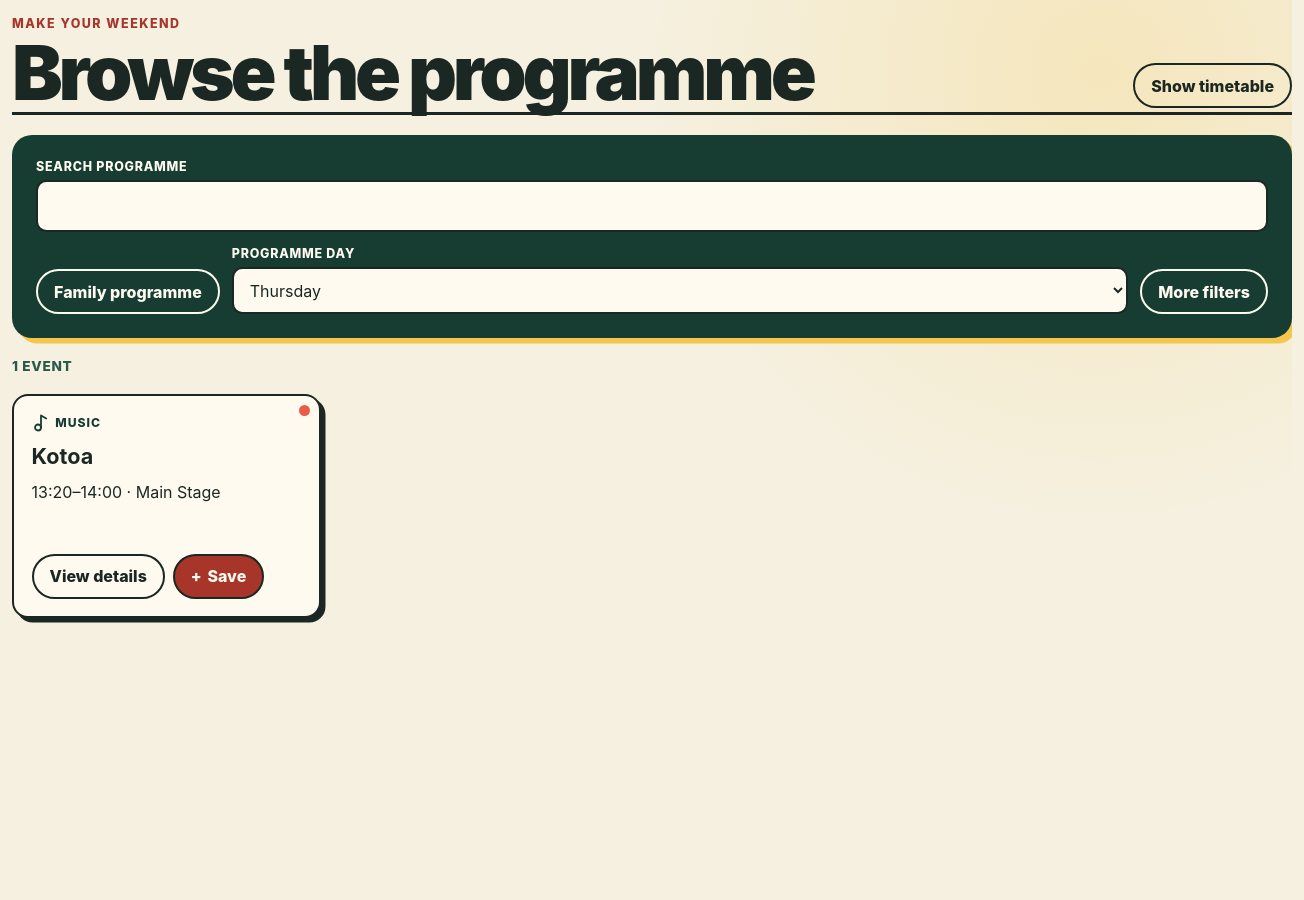
Test: BrowseView › shows the timetable exclusively when desktop layout opens the timetable
Expected: the heading "Kotoa" is shown, [32,442,93,468]
Click the button "Show timetable" at (1213, 86), box [1133,63,1292,108]
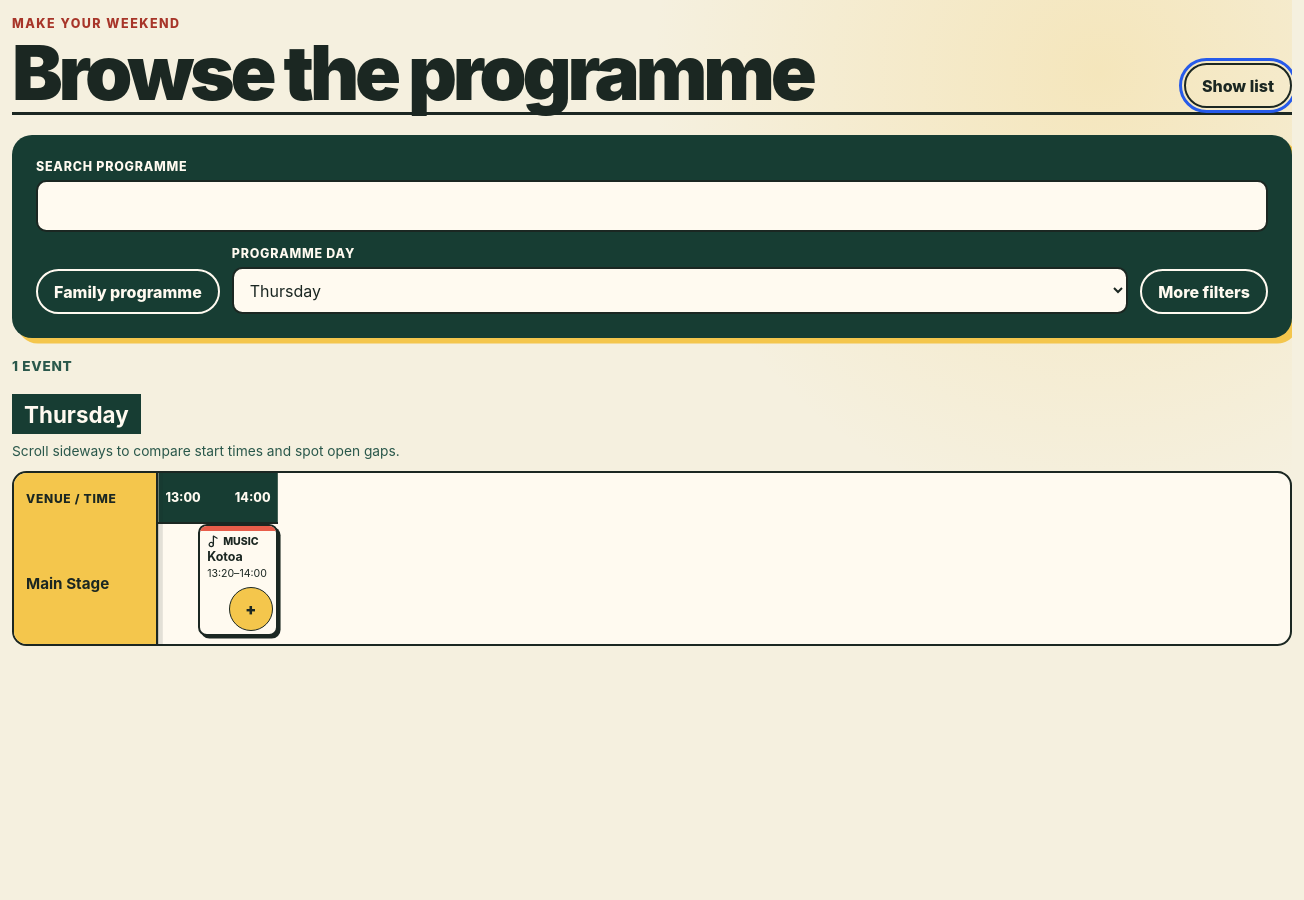
Expected: the heading "Main Stage" is shown, [14,524,158,644]
Expected: the heading "Thursday" is shown, [12,394,141,434]
Expected: the button "Show list" is shown, [1184,63,1292,108]
